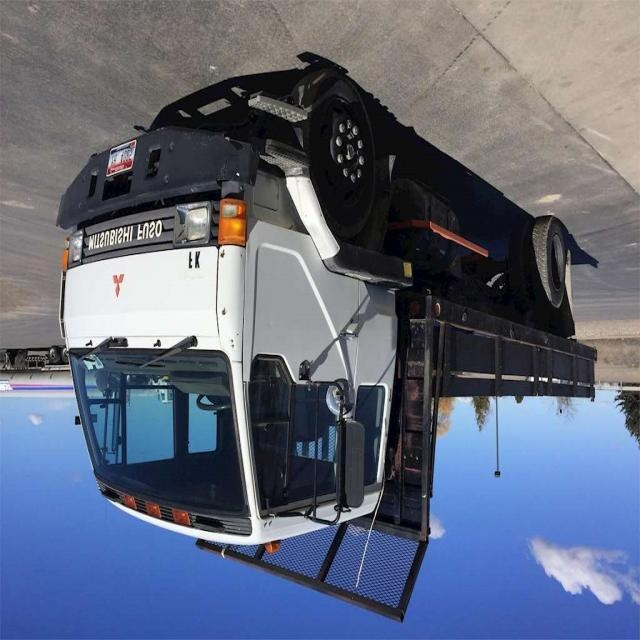Truck: (56, 69, 596, 625)
